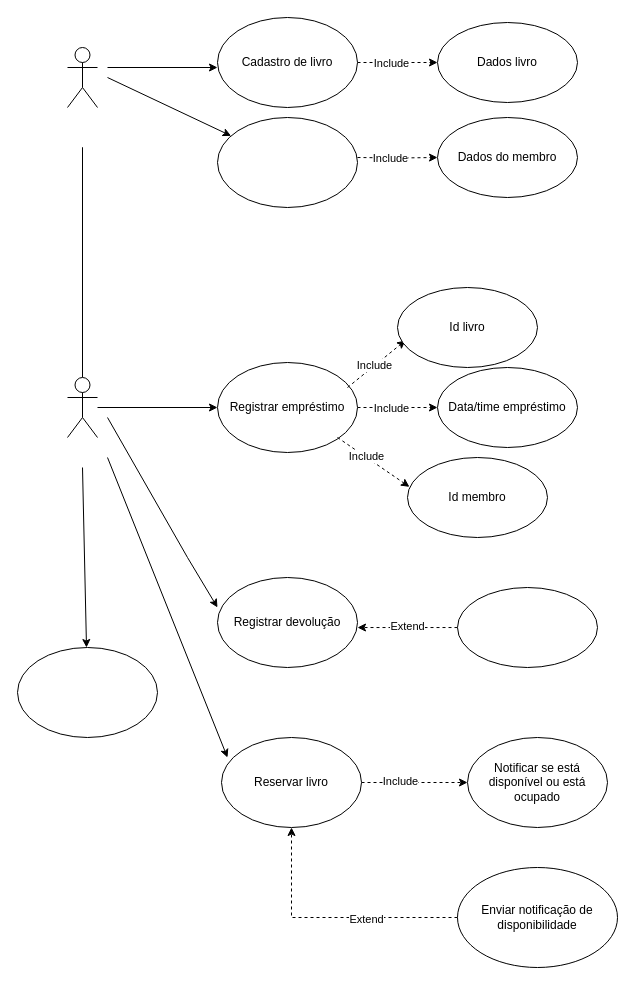
Image size: 635x985. Some labels were removed from this diagram. Here are the shapes that lost their labels. From the top down, the box of each, then its label:
(66, 46, 98, 108): Bibliotecário
(216, 116, 358, 208): Cadastro de membro
(66, 376, 98, 438): Membro
(456, 586, 598, 668): Multa por atraso
(16, 646, 158, 738): Consultar Status de empréstimo/Histórico
